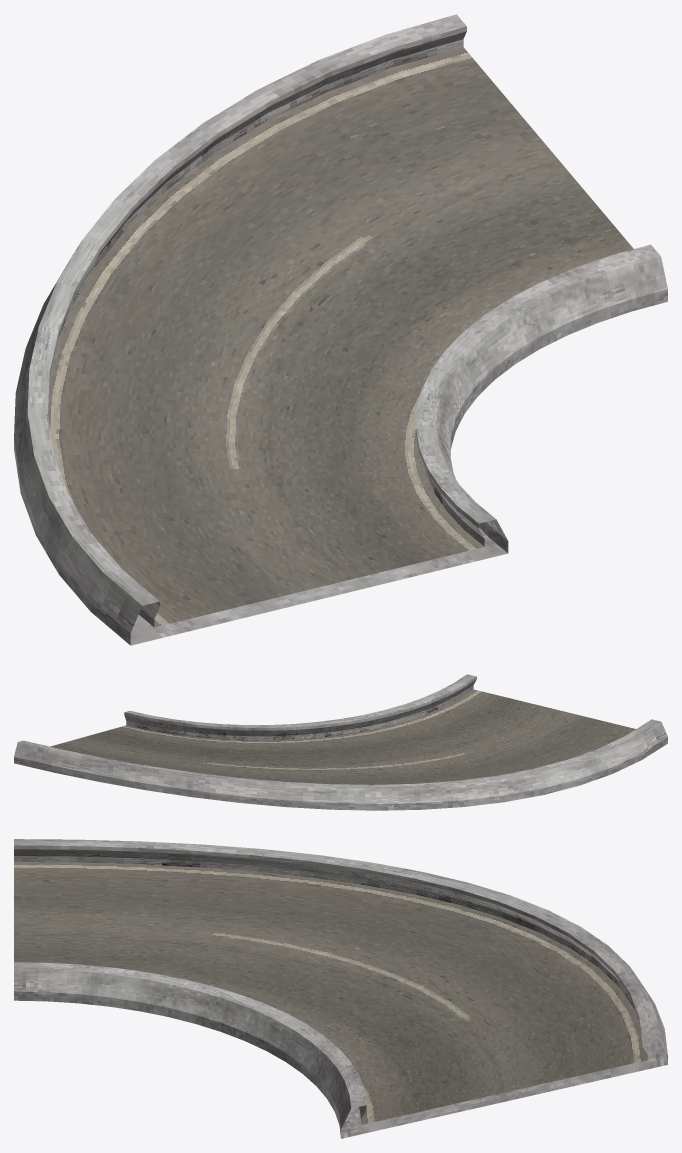
Rendered from road-Turn-Flat-HalfBankedRight-Even-Right-Size2.glb.
The picture shows the model from 3 angles, top to bottom: view 1: azimuth 30°, elevation 25°; view 2: azimuth 150°, elevation 25°; view 3: azimuth 270°, elevation 25°; orthographic projection. The views are drawn at different scales.
Visible parts, largest first — view 1: road-Turn-Flat-HalfBankedRight-Even-Right-Size2; view 2: road-Turn-Flat-HalfBankedRight-Even-Right-Size2; view 3: road-Turn-Flat-HalfBankedRight-Even-Right-Size2.
Boxes of the visible parts, <box> form: road-Turn-Flat-HalfBankedRight-Even-Right-Size2: <box>14,14,667,645</box>; road-Turn-Flat-HalfBankedRight-Even-Right-Size2: <box>14,674,667,810</box>; road-Turn-Flat-HalfBankedRight-Even-Right-Size2: <box>14,839,667,1138</box>.
Bounding box in the file's own units: 2 × 0.3359 × 2.
Materials: 2 (2 with a texture image).
